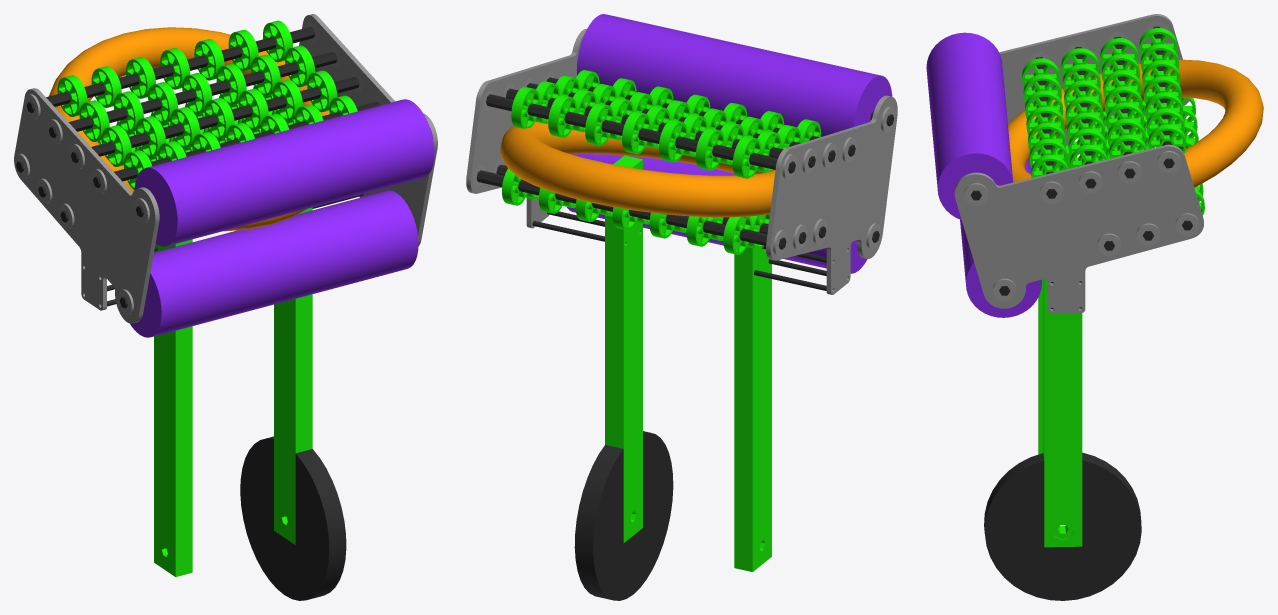
3 views of the same model, side by side, from view 1: azimuth 30°, elevation 25°; view 2: azimuth 150°, elevation 25°; view 3: azimuth 270°, elevation 25° (orthographic). The views are drawn at different scales.
Parts seen in each view (by area): view 1: End Shaft- Shooter v1:1, End Shaft- Shooter v1:2, Component2:2, Component4:1, Component5:1, Component3:1, Note v1:1, Component2:1, End Shaft v5 (4):1, End Shaft v5 (3):1, End Shaft v5:1, End Shaft v5 (5):1 (+21 smaller); view 2: End Shaft- Shooter v1:1, Note v1:1, Component2:2, Component5:1, Component4:1, Component3:1, Component2:1, End Shaft v5 (4):1, End Shaft- Shooter v1:2, End Shaft v5 (2):1, Component15:2, Component15:5 (+9 smaller); view 3: Component2:1, Component4:1, End Shaft- Shooter v1:1, Component3:1, Note v1:1, Component2:2, End Shaft- Shooter v1:2, Component5:1, Component15:7, Component15:6, Component17:5, Component17:7 (+24 smaller).
Part boxes in pixels (x1,y1,x2,y2): End Shaft- Shooter v1:1: (134,99,434,246); End Shaft- Shooter v1:2: (120,190,418,337); Component2:2: (14,88,159,323); Component4:1: (240,436,346,600); Component5:1: (154,239,192,576); Component3:1: (274,207,312,544); Note v1:1: (48,27,329,231); Component2:1: (299,14,437,246); End Shaft v5 (4):1: (26,26,315,113); End Shaft v5 (3):1: (48,51,337,137); End Shaft v5:1: (71,76,359,162); End Shaft v5 (5):1: (93,101,380,187); End Shaft- Shooter v1:1: (577,14,894,136); Note v1:1: (500,121,775,217); Component2:2: (766,95,897,294); Component5:1: (734,247,771,571); Component4:1: (574,431,673,600); Component3:1: (605,155,642,542); Component2:1: (466,29,586,228); End Shaft v5 (4):1: (486,94,795,173); End Shaft- Shooter v1:2: (567,154,879,273); End Shaft v5 (2):1: (476,170,786,249); Component15:2: (659,119,687,162); Component15:5: (695,128,724,170); Component2:1: (954,144,1203,313); Component4:1: (984,452,1141,600); End Shaft- Shooter v1:1: (926,32,1013,219); Component3:1: (1043,279,1082,547); Note v1:1: (1008,59,1263,187); Component2:2: (999,14,1189,167); End Shaft- Shooter v1:2: (960,158,1041,317); Component5:1: (1038,145,1076,454); Component15:7: (1139,28,1177,60); Component15:6: (1148,124,1186,153); Component17:5: (1023,74,1061,106); Component17:7: (1022,58,1060,90).
Size of the model in its own units: 0.443 by 0.7191 by 0.4494.
